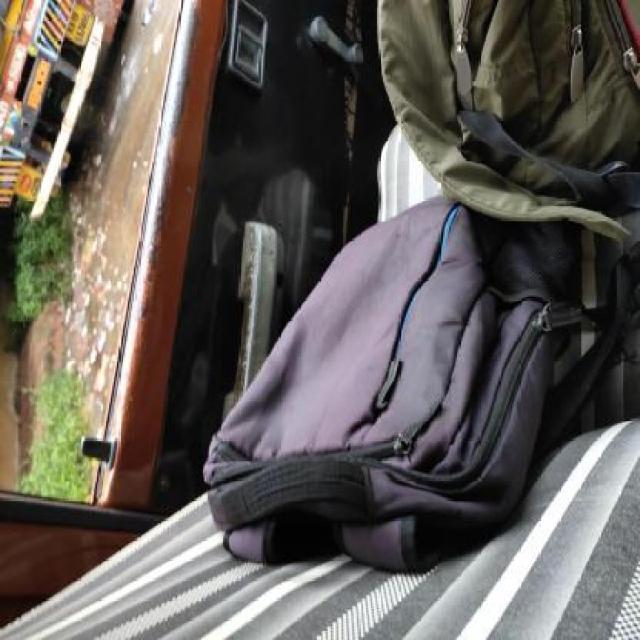backpack: (200, 189, 597, 577)
